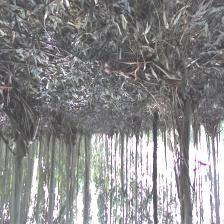trunk: (180, 101, 193, 213), (11, 145, 25, 219), (48, 135, 57, 211), (152, 112, 158, 208)
